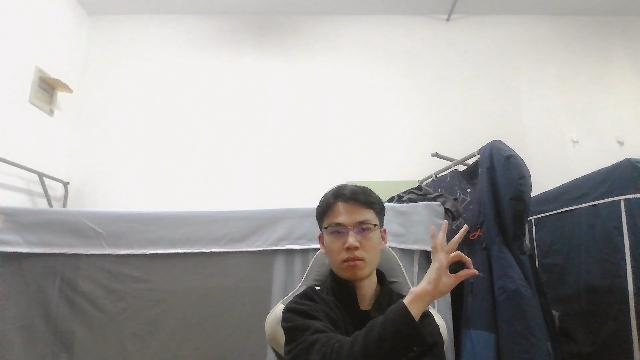ok: (427, 218, 478, 291)
